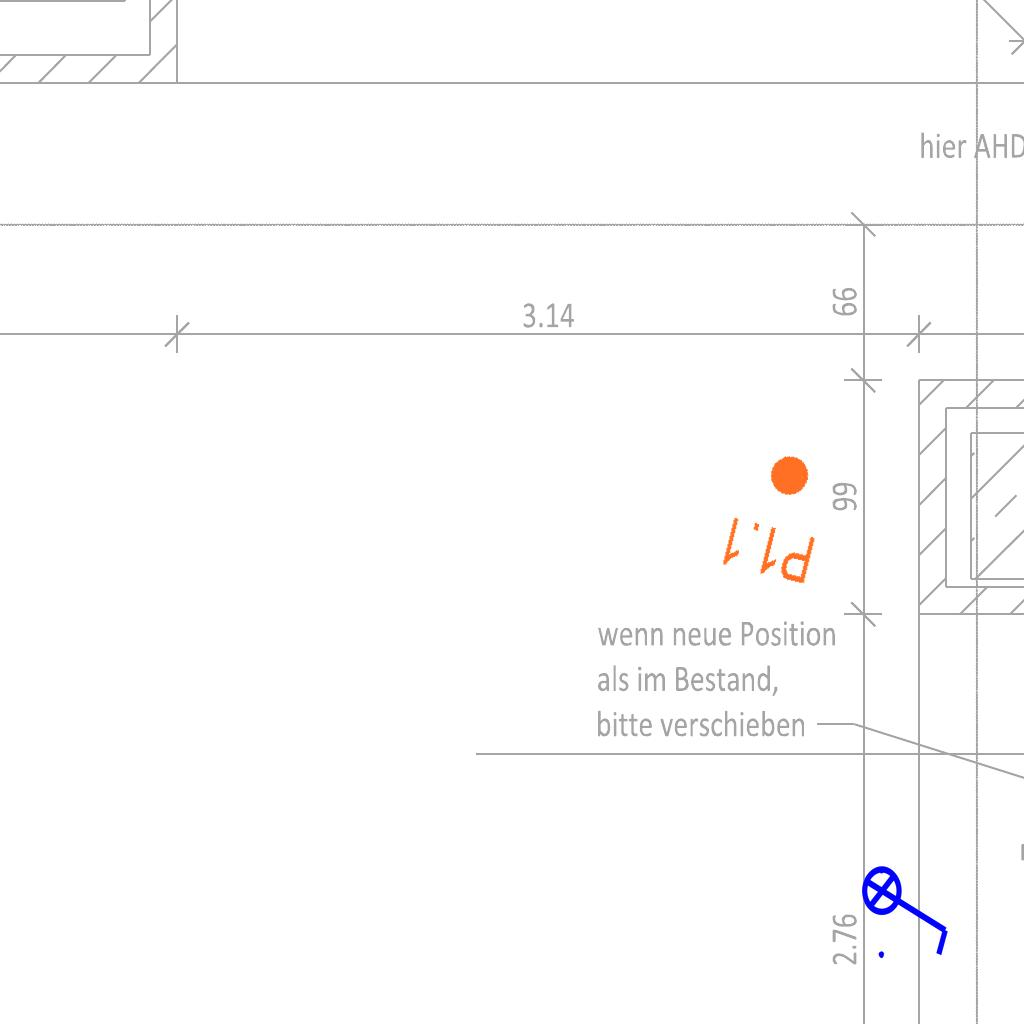Ausschalter_beleuchtet: (860, 852, 956, 964)
Downlight_LED_Einbauleuchten_Flur: (715, 441, 838, 589)
